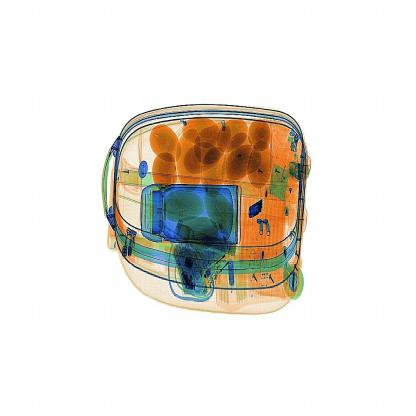knife: (245, 198, 265, 221)
